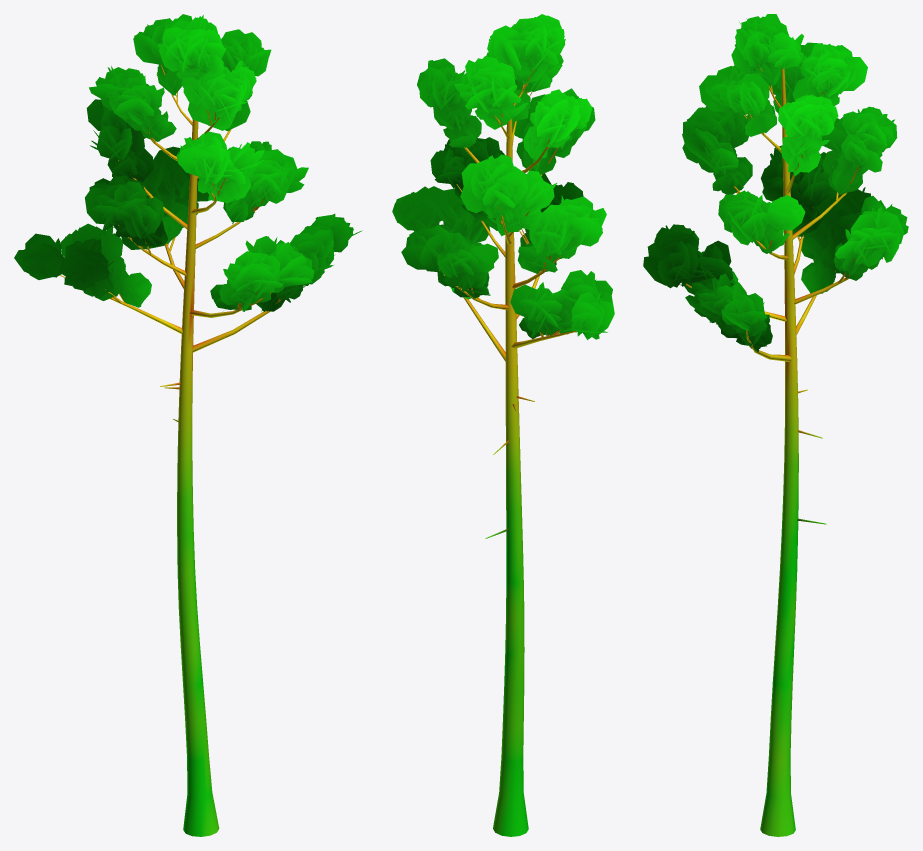
The model's file is tree_pine_b.glb.
The picture shows the model from 3 angles, left to right: view 1: azimuth 30°, elevation 25°; view 2: azimuth 150°, elevation 25°; view 3: azimuth 270°, elevation 25°; orthographic projection.
Parts seen in each view (by area): view 1: tree_pine_b.1, tree_pine_b.0; view 2: tree_pine_b.1, tree_pine_b.0; view 3: tree_pine_b.1, tree_pine_b.0.
Boxes of the visible parts, <box> form: tree_pine_b.1: <box>14,14,362,311</box>; tree_pine_b.0: <box>59,65,280,836</box>; tree_pine_b.1: <box>392,14,614,339</box>; tree_pine_b.0: <box>439,64,577,836</box>; tree_pine_b.1: <box>643,14,908,352</box>; tree_pine_b.0: <box>685,65,859,836</box>.
Size of the model in its own units: 7.47 by 20.77 by 6.23.
